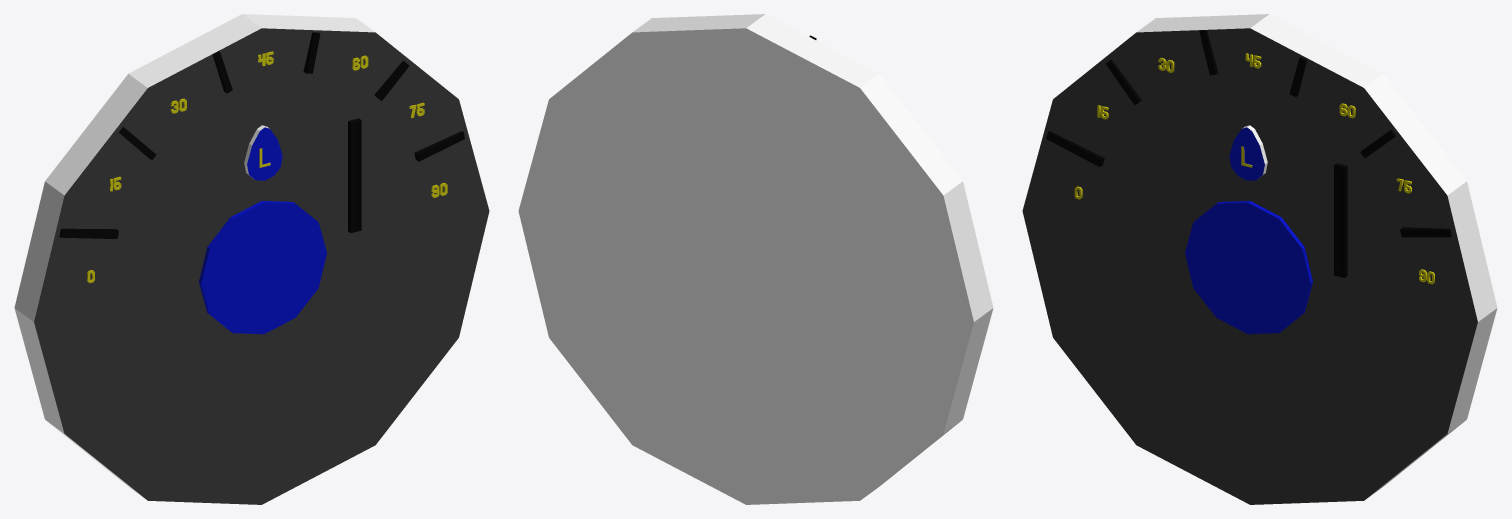
File: WaterGauge.fbx
3 views of the same model, side by side, from view 1: azimuth 30°, elevation 25°; view 2: azimuth 150°, elevation 25°; view 3: azimuth 330°, elevation 25° (orthographic).
Parts seen in each view (by area): view 1: WaterGauge; view 2: WaterGauge; view 3: WaterGauge.
Boxes of the visible parts, <box> form: WaterGauge: <box>14,14,489,504</box>; WaterGauge: <box>518,14,993,504</box>; WaterGauge: <box>1022,14,1497,504</box>.
Bounding box in the file's own units: 115 × 115 × 10.04.
